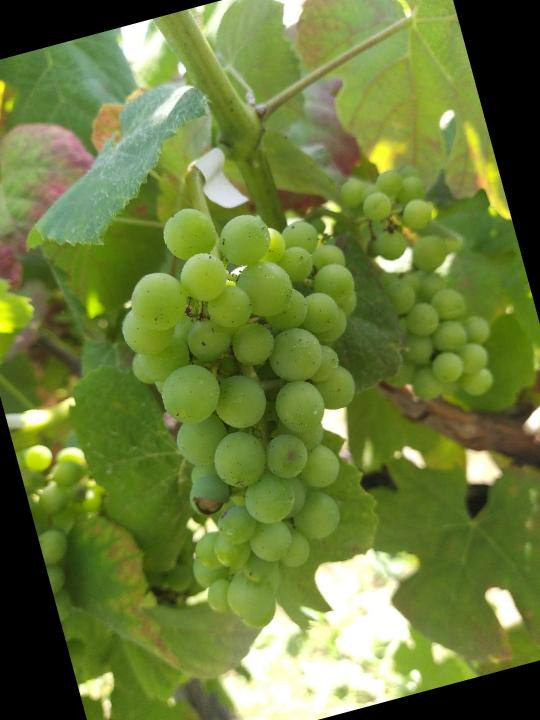grape: (92, 165, 441, 648)
